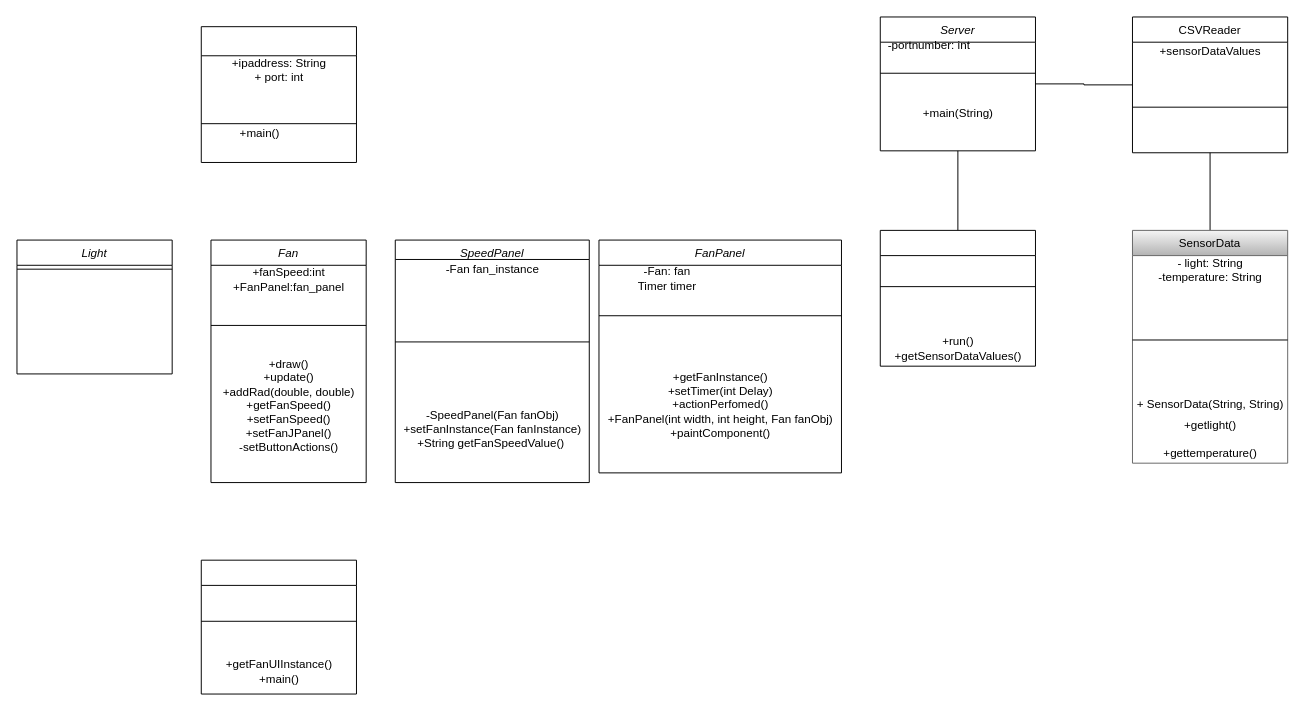
The diagram is 1305 pixels wide and 711 high, and some of its shapes have lost their labels. The box of each missing label's shape, as (x1, y1, x2, y2) in pixels:
Client: (200, 26, 356, 162)
FanApp: (200, 559, 356, 694)
SampleClientHandler: (879, 229, 1035, 366)
